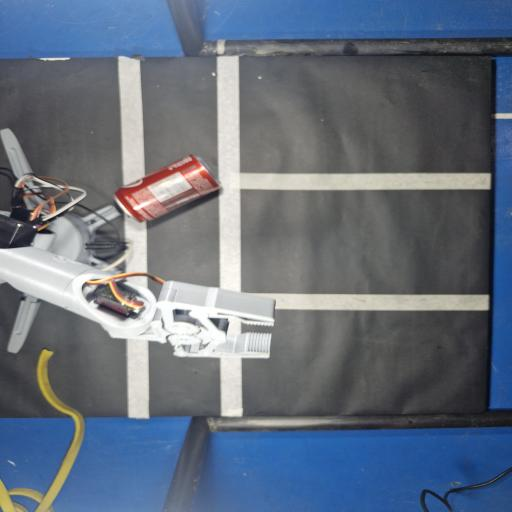lata: (115, 155, 220, 222)
